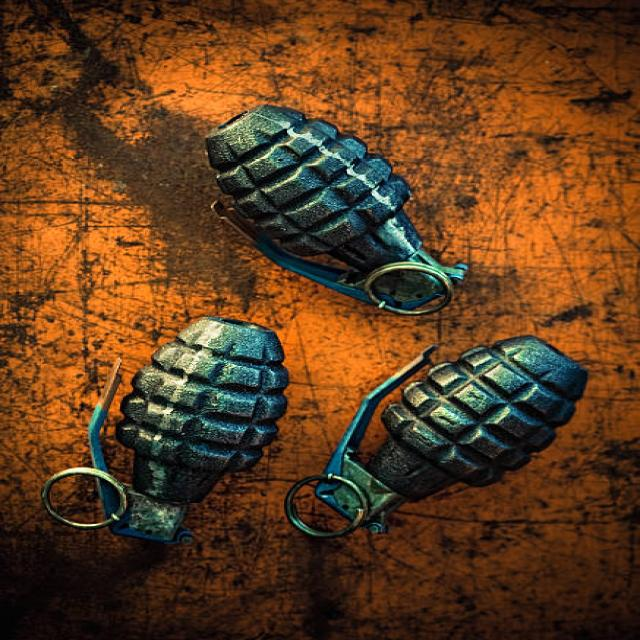grenade: (277, 335, 595, 545), (205, 105, 480, 322), (36, 316, 290, 550)
